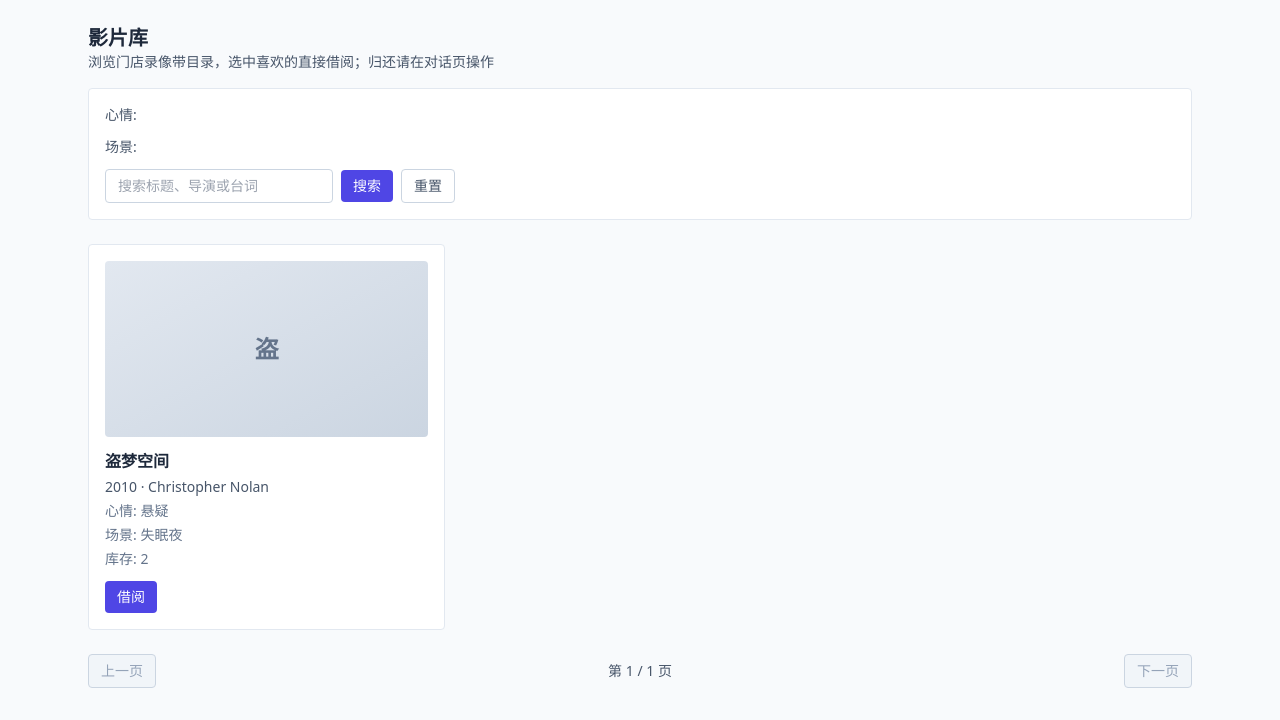
Scenario: MovieLibraryPage › keeps the card and the detail in sync after borrowing from the detail
Expected: the heading "盗梦空间" is shown, top-left (105, 450), bottom-right (169, 472)
Step 1. Click the button with aria-label "查看《盗梦空间》详情" → (267, 415), box top-left (105, 261), bottom-right (428, 569)
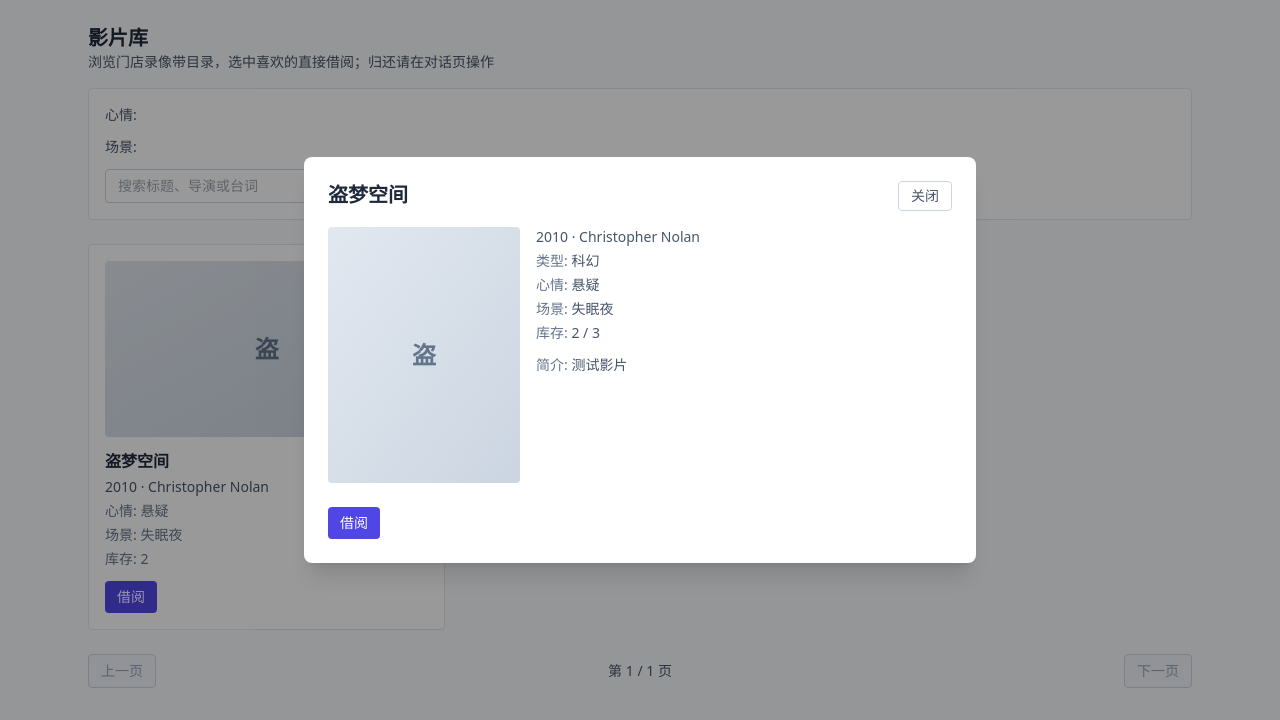
Step 2. Click the button "借阅" → (354, 523), box top-left (328, 507), bottom-right (380, 539)
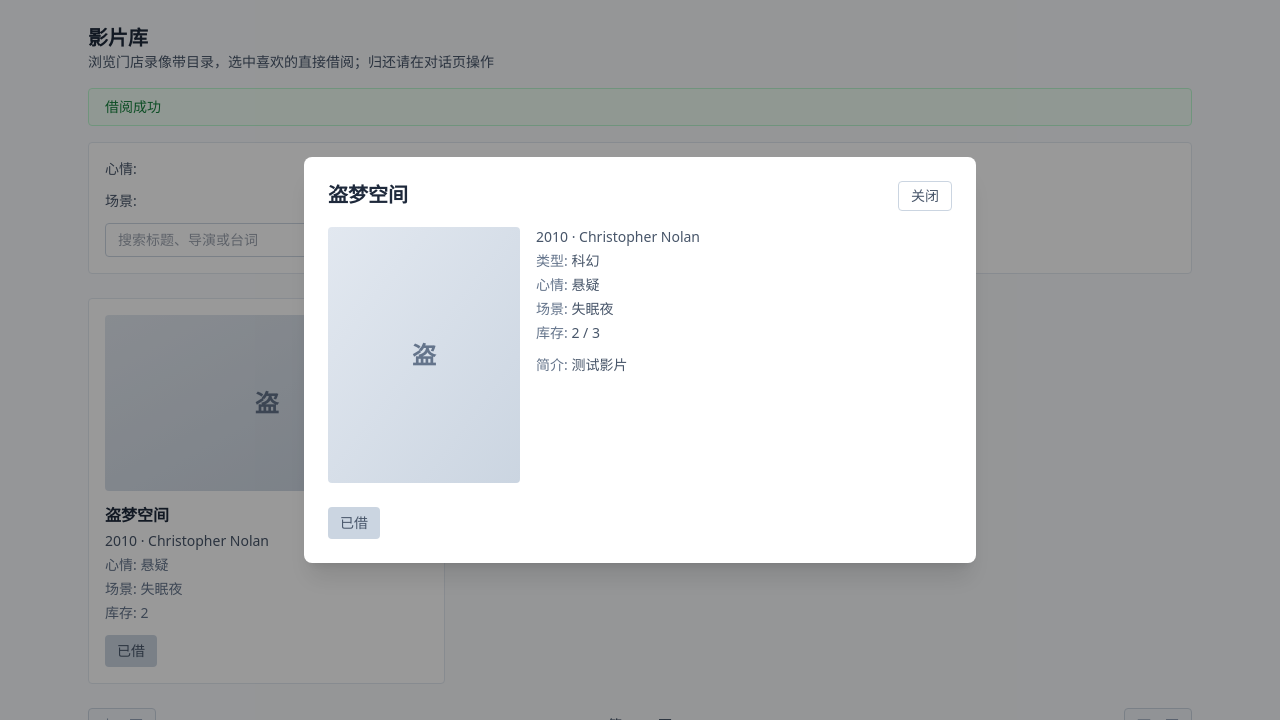
Expected: the number of buttons "已借" is 2, top-left (105, 635), bottom-right (157, 667); top-left (328, 507), bottom-right (380, 539)
Expected: the text "借阅成功" is shown, top-left (88, 88), bottom-right (1192, 126)
